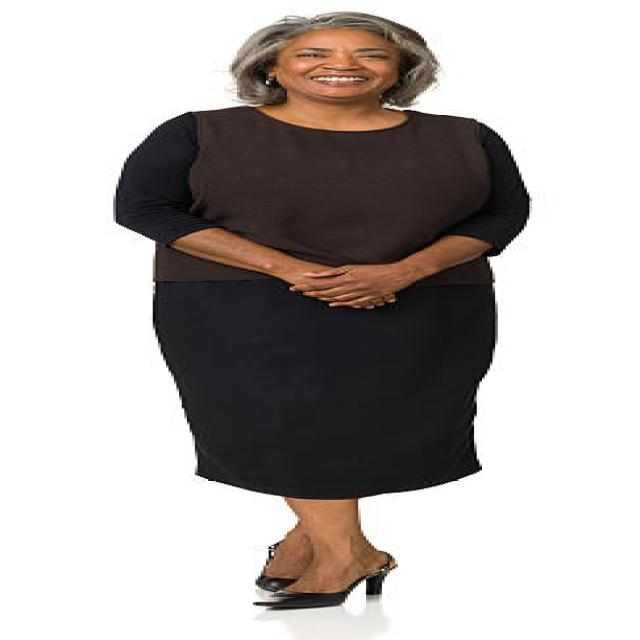Edited images: (91, 6, 527, 616)
